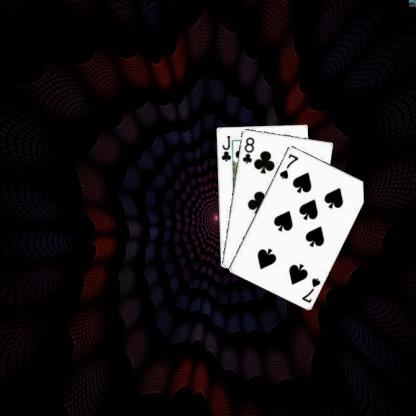7S: (298, 275, 322, 304), (277, 151, 299, 180)
8C: (240, 134, 255, 165)
JC: (218, 133, 232, 162)
